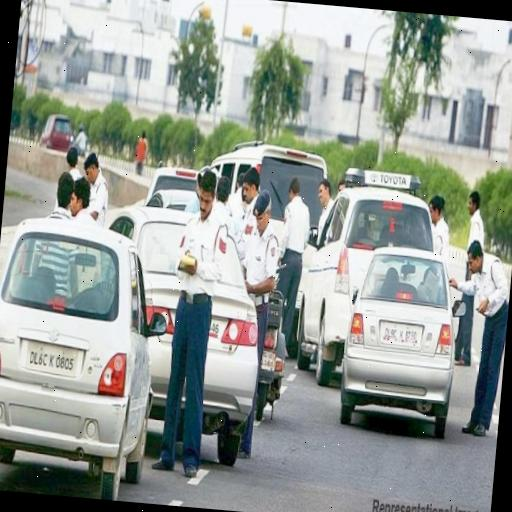number plate: (26, 337, 78, 376), (379, 323, 424, 347)
